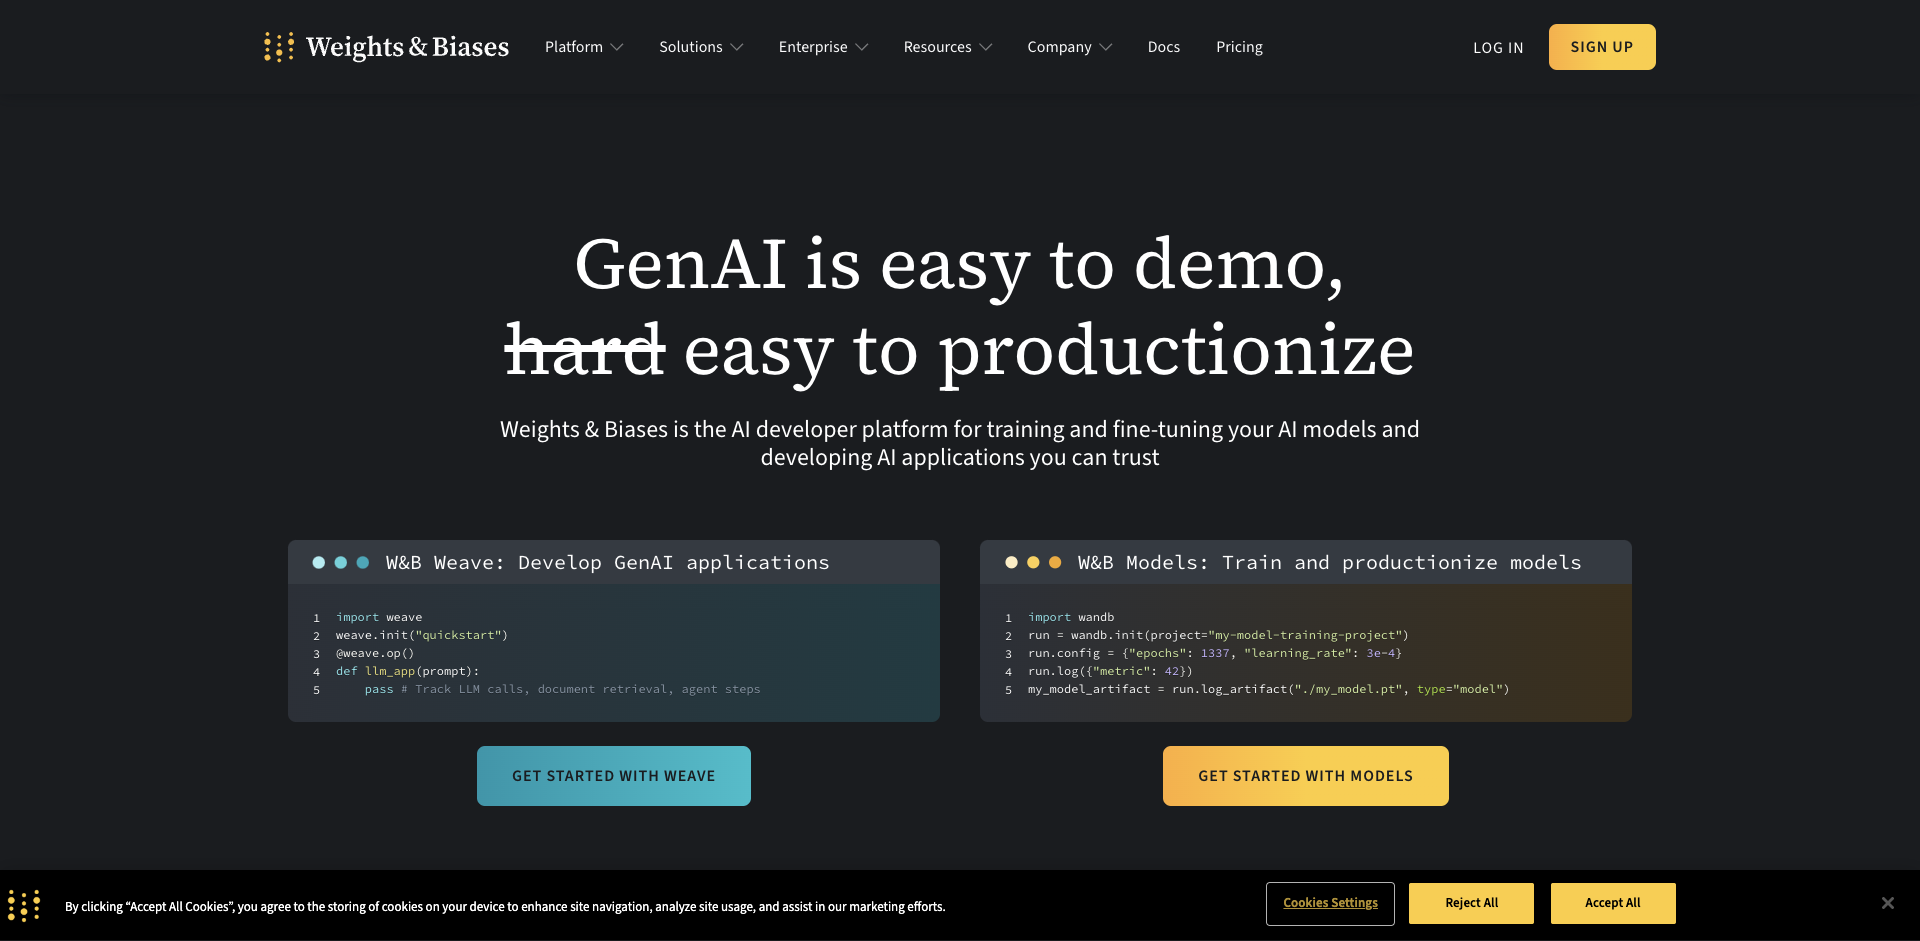button: (1056, 870, 1900, 941), (288, 722, 940, 806), (980, 722, 1632, 806), (288, 746, 940, 806), (980, 746, 1632, 806), (1163, 746, 1449, 806), (478, 746, 751, 806), (1416, 25, 1656, 70), (1416, 25, 1656, 70), (864, 874, 1056, 924), (880, 874, 1056, 924), (880, 874, 1056, 924), (1537, 25, 1656, 70), (1537, 25, 1656, 70), (1409, 883, 1534, 925), (1550, 883, 1675, 925), (1269, 885, 1393, 924), (1549, 25, 1656, 70), (1549, 25, 1656, 70), (1549, 25, 1656, 70), (1549, 25, 1656, 70), (1199, 767, 1413, 785), (1199, 767, 1413, 785), (512, 767, 716, 785), (512, 767, 716, 785), (907, 890, 1029, 908), (907, 890, 1029, 908), (1473, 32, 1537, 62), (1473, 32, 1537, 62), (1866, 881, 1910, 925), (1473, 32, 1524, 62), (1473, 32, 1524, 62), (1548, 619, 1604, 641), (702, 619, 757, 641), (1571, 38, 1633, 56), (1571, 38, 1633, 56), (1571, 38, 1633, 56), (1571, 38, 1633, 56), (1473, 39, 1524, 58), (1473, 39, 1524, 58), (1473, 39, 1524, 58), (1473, 39, 1524, 58), (1473, 39, 1524, 58), (1473, 39, 1524, 58)
link: (264, 32, 509, 62), (264, 32, 509, 62), (1216, 37, 1262, 58), (1216, 37, 1262, 58), (1147, 37, 1180, 58), (1147, 37, 1180, 58)
menu_item: (779, 25, 868, 69), (779, 25, 868, 69), (904, 25, 992, 69), (904, 25, 992, 69), (659, 25, 743, 69), (1027, 25, 1112, 69), (659, 25, 743, 69), (1027, 25, 1112, 69), (545, 25, 623, 69), (545, 25, 623, 69), (1216, 25, 1262, 69), (1216, 25, 1262, 69), (1147, 25, 1180, 69), (1147, 25, 1180, 69)
